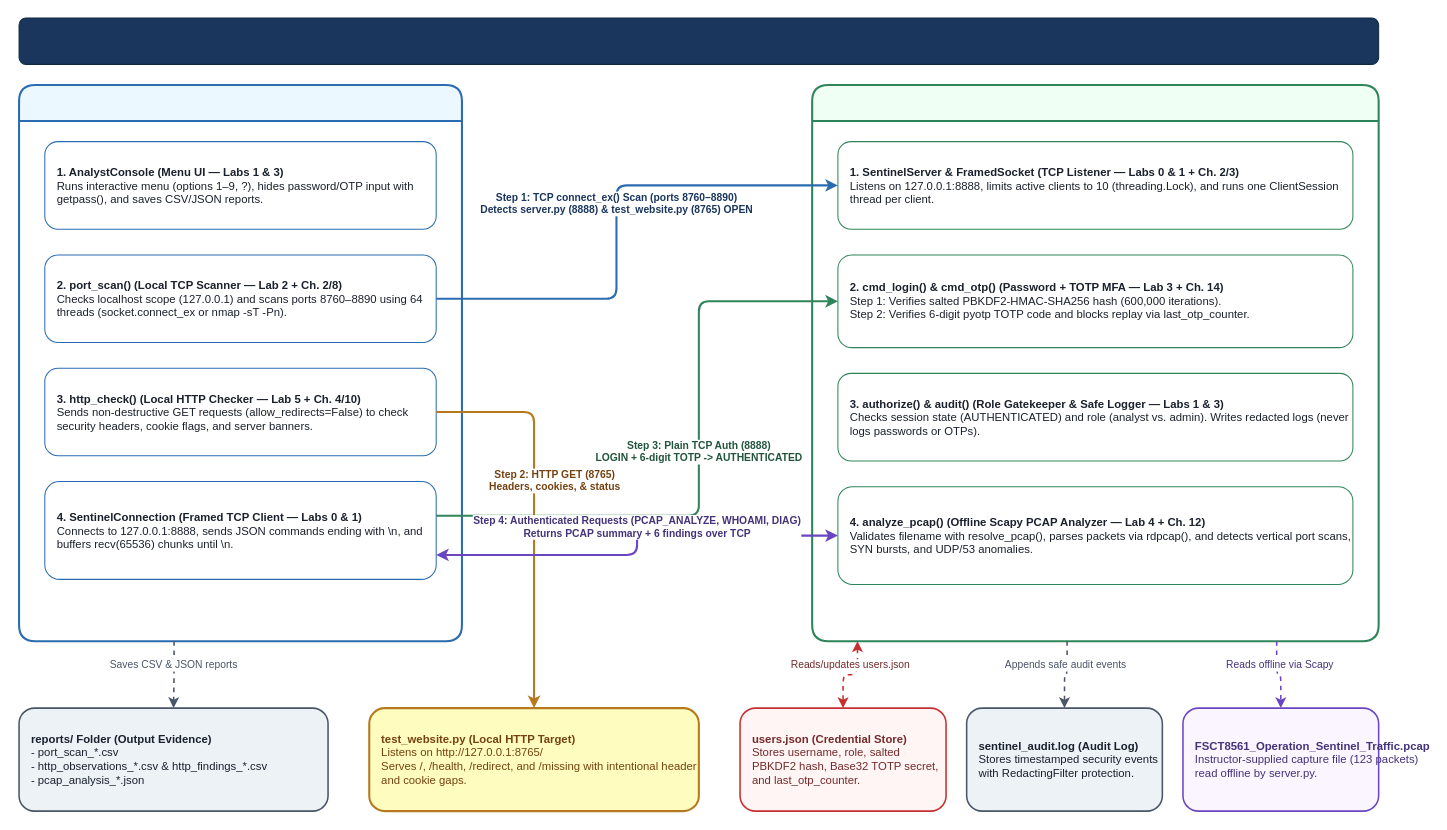
Image size: 1447x830. Some labels were removed from this diagram. Each missing label, with the box of its shape:
client.py — Analyst Workstation (Interactive CLI, TCP Client, Local Scanners): (18, 83, 462, 642)
FSCT 8561 — Operation Sentinel: System Architecture & File Interaction Flowchart: (18, 17, 1379, 64)
server.py — Authenticated TCP Security Server (127.0.0.1:8888): (811, 83, 1379, 642)
